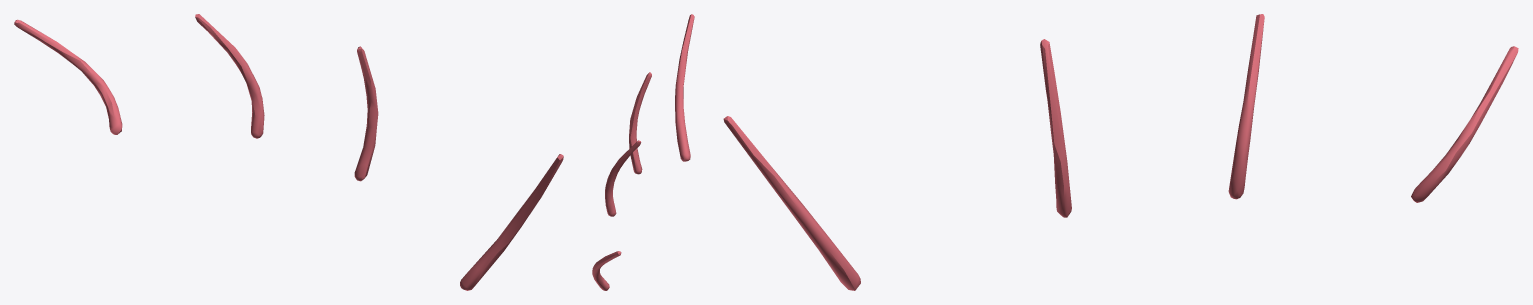
File: fma51014_fj5234.glb
3 renders of one model, left to right at view 1: azimuth 30°, elevation 25°; view 2: azimuth 150°, elevation 25°; view 3: azimuth 270°, elevation 25°, orthographic. The views are drawn at different scales.
Parts seen in each view (by area): view 1: FMA51014_FJ5234; view 2: FMA51014_FJ5234; view 3: FMA51014_FJ5234.
Part boxes in pixels (x1,y1,x2,y2): FMA51014_FJ5234: [14, 14, 563, 290]; FMA51014_FJ5234: [592, 14, 694, 290]; FMA51014_FJ5234: [723, 14, 1518, 290].
Bounding box in the file's own units: 0.00967 × 0.00793 × 0.0243.
